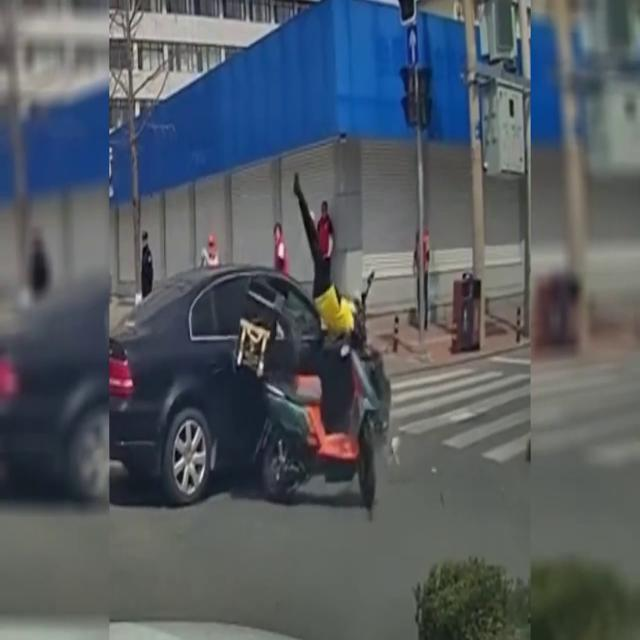accident: (112, 174, 390, 506)
